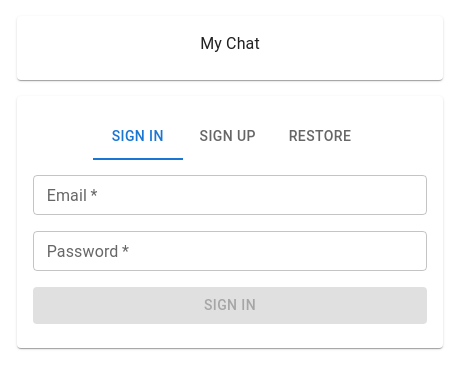
Scenario: Home page › Check tab 3
The image size is (461, 367).
Click the tab with test id "tab_btn-3" at (320, 136), box left=273, top=112, right=367, bottom=160
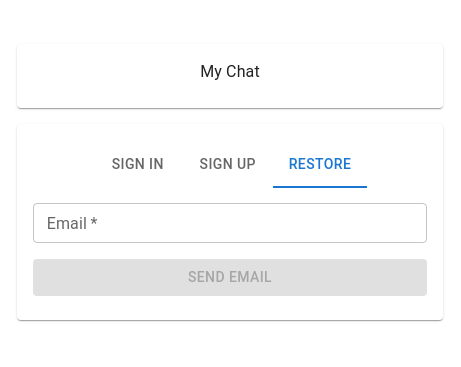
Result: the form with test id "restore-form" is shown at left=33, top=203, right=427, bottom=296
Result: the form with test id "sign-in-form" is gone
